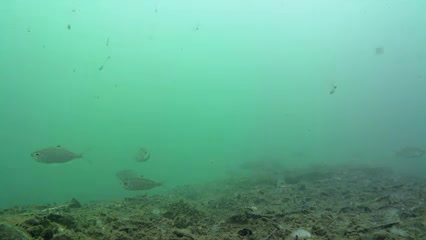smallfish: (114, 166, 162, 191), (34, 146, 83, 169)
